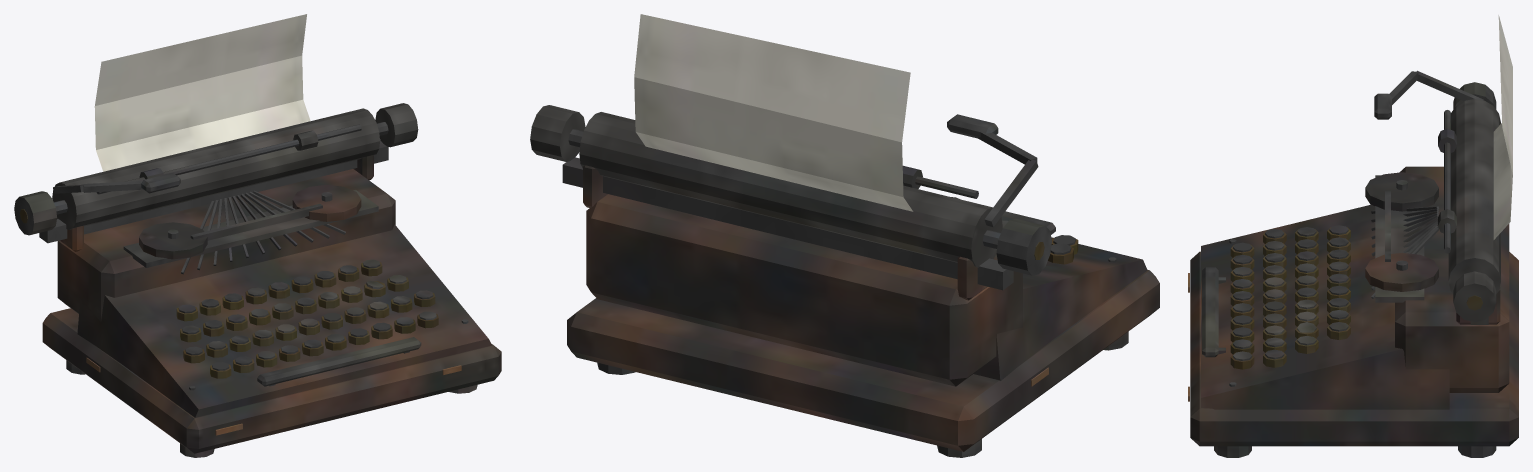
File: O06_typewriter.glb
The picture shows the model from 3 angles, left to right: view 1: azimuth 30°, elevation 25°; view 2: azimuth 150°, elevation 25°; view 3: azimuth 270°, elevation 25°; orthographic projection. The views are drawn at different scales.
Parts seen in each view (by area): view 1: Squashed rubber foot; view 2: Squashed rubber foot; view 3: Squashed rubber foot.
Boxes of the visible parts, x1=… form: Squashed rubber foot: x1=14, y1=14, x2=501, y2=457; Squashed rubber foot: x1=530, y1=14, x2=1159, y2=457; Squashed rubber foot: x1=1188, y1=15, x2=1518, y2=457.
Bounding box in the file's own units: 0.4 × 0.2893 × 0.2771.
Materials: 6 (6 with a texture image).
